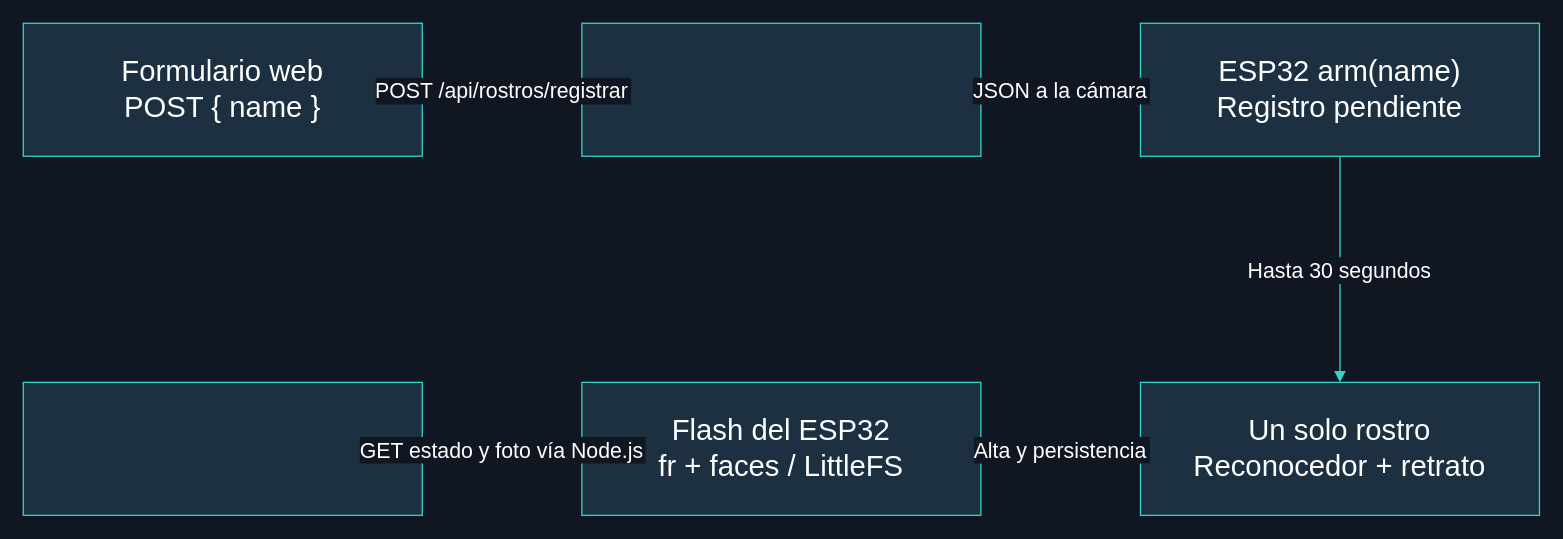
This 1563x539 diagram has some shape labels left out. Each missing label, with the centre of its shape:
"Node.js Reenvía /registrar" belongs at point (781, 89).
"poll() y render() Nombre y foto en web" belongs at point (222, 448).
